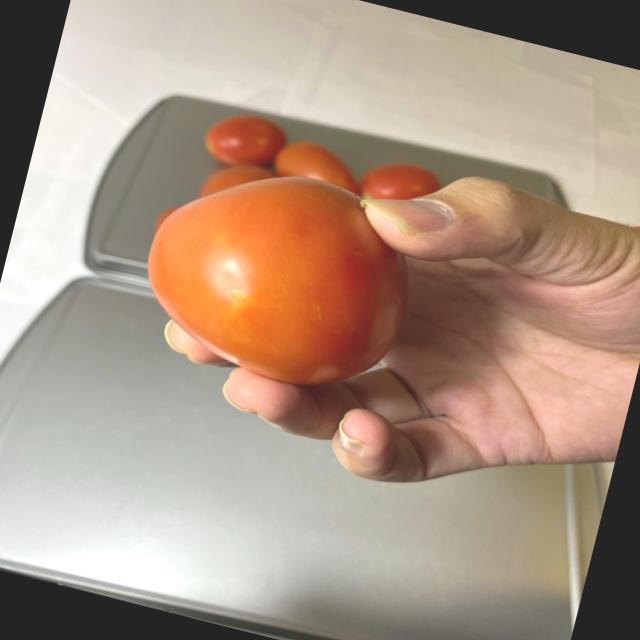tomato: (126, 99, 447, 408)
